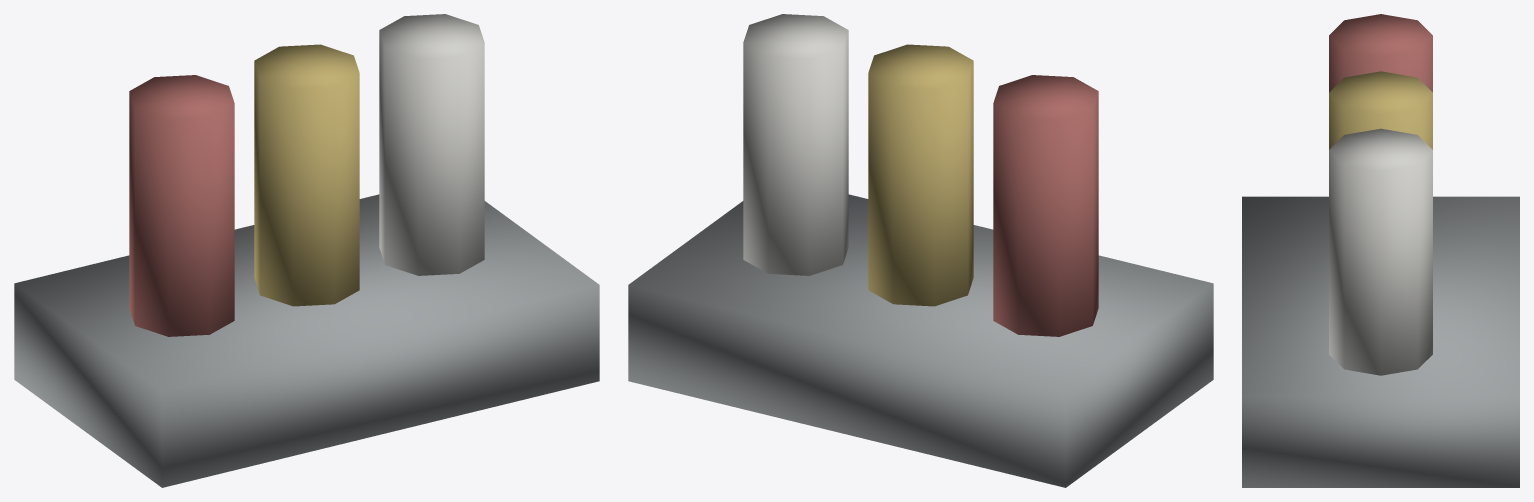
File: condiment_station__compact.glb
3 views of the same model, side by side, from view 1: azimuth 30°, elevation 25°; view 2: azimuth 150°, elevation 25°; view 3: azimuth 270°, elevation 25° (orthographic). The views are drawn at different scales.
Visible parts, largest first — view 1: world; view 2: world; view 3: world.
Part boxes in pixels (x1,y1,x2,y2): world: [14, 14, 599, 487]; world: [628, 14, 1213, 487]; world: [1242, 14, 1519, 487].
Size of the model in its own units: 0.3528 by 0.2418 by 0.2064.
